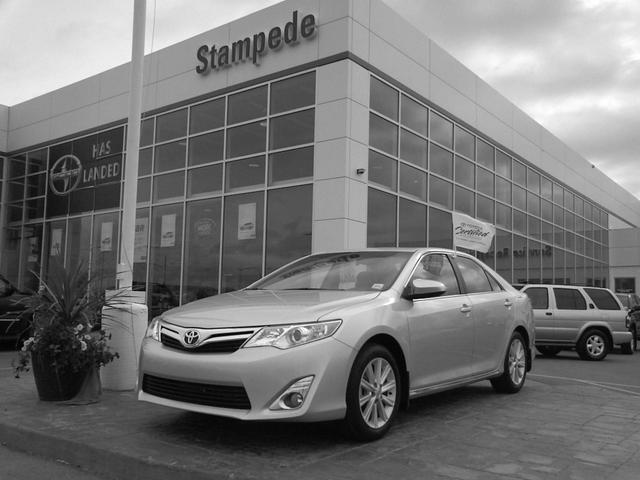car: (135, 247, 541, 447)
